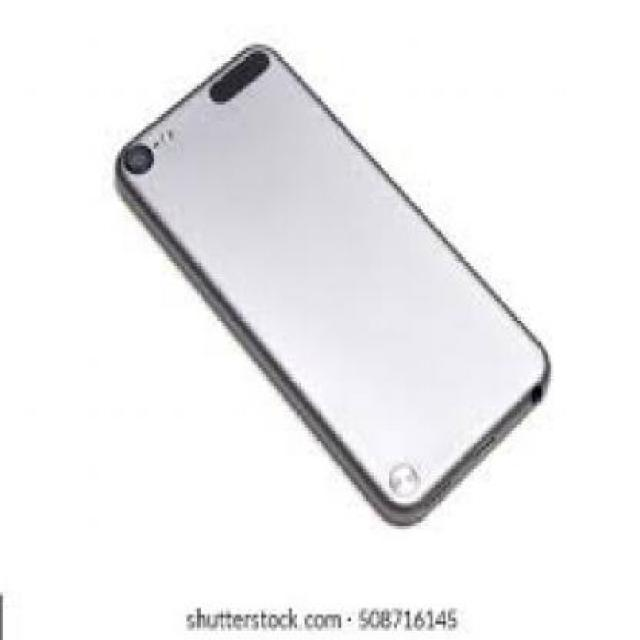phone: (115, 45, 551, 529)
